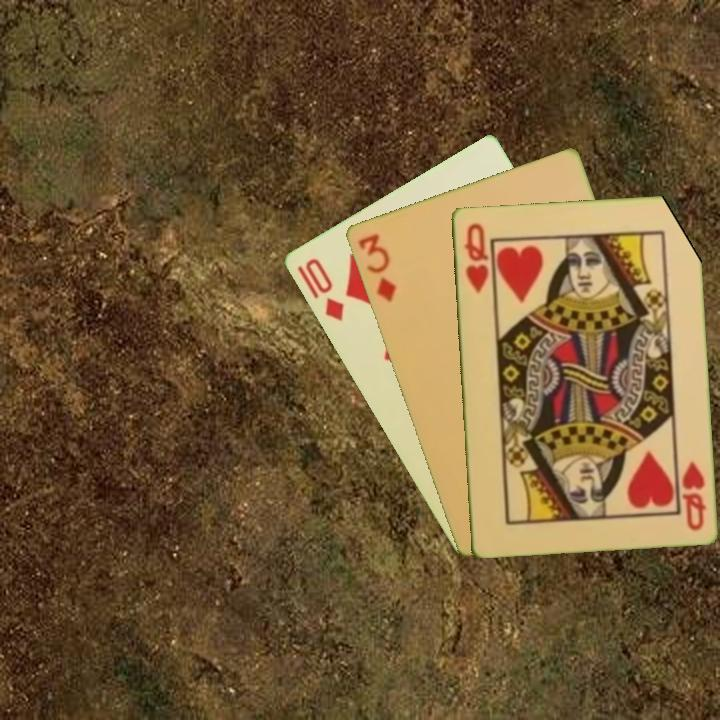10d: (293, 254, 347, 324)
3d: (354, 230, 399, 305)
Qh: (460, 219, 491, 296), (677, 458, 708, 533)
